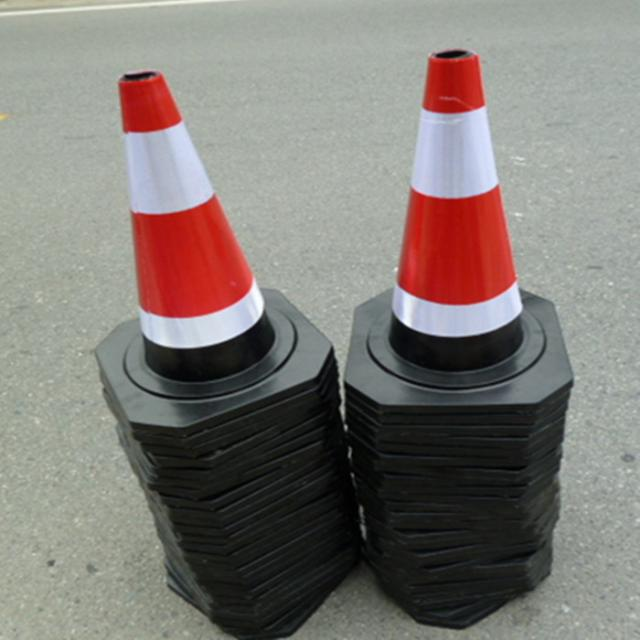reflective_cone: (86, 67, 335, 427), (342, 43, 573, 405)
